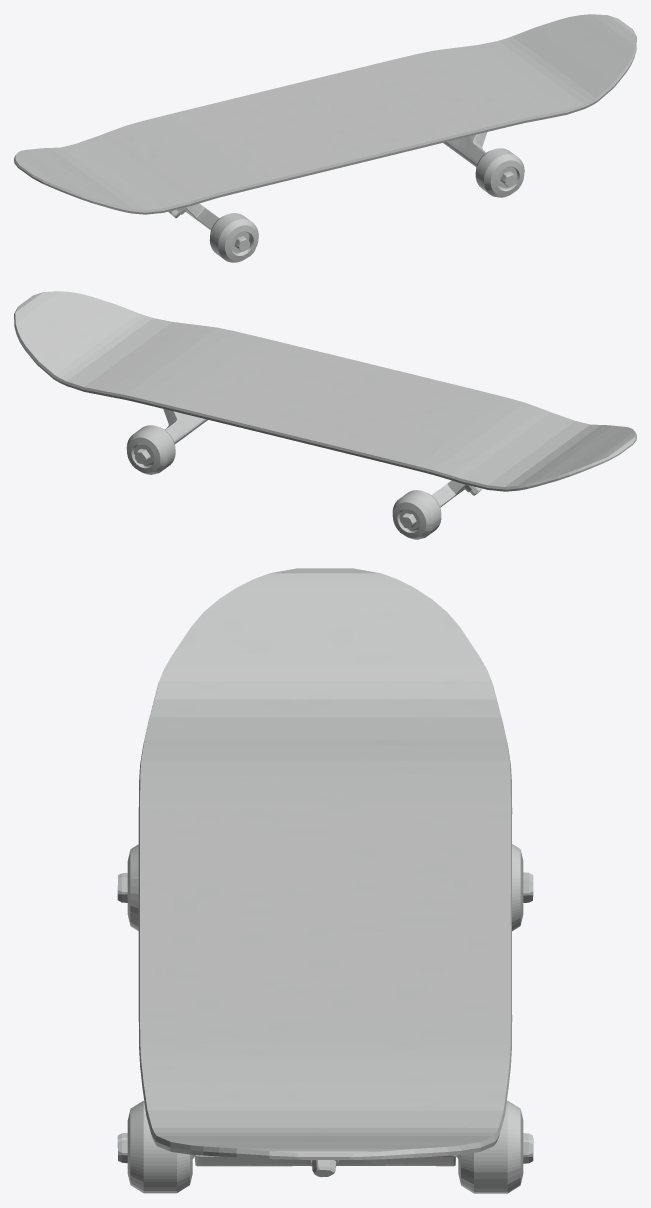
File: skateboard.obj
3 renders of one model, top to bottom at view 1: azimuth 30°, elevation 25°; view 2: azimuth 150°, elevation 25°; view 3: azimuth 270°, elevation 25°, orthographic. The views are drawn at different scales.
Parts seen in each view (by area): view 1: polySurface11902; view 2: polySurface11902; view 3: polySurface11902.
Boxes of the visible parts, <box> form: polySurface11902: <box>14,14,636,262</box>; polySurface11902: <box>14,291,636,539</box>; polySurface11902: <box>117,568,533,1193</box>.
Bounding box in the file's own units: 15.91 × 2.52 × 4.76.
Materials: 5 (4 with a texture image).
